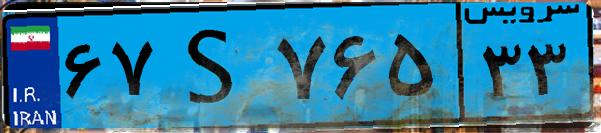3: (475, 38, 525, 113), (525, 38, 570, 115)
5: (385, 28, 445, 110)
6: (330, 28, 385, 110), (57, 26, 110, 100)
7: (270, 28, 330, 110), (110, 28, 158, 98)
S: (158, 12, 270, 120)
